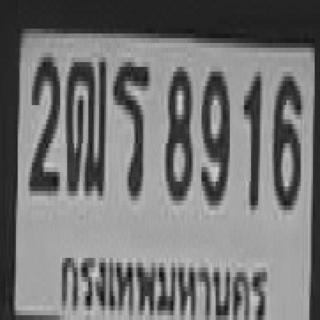A18: (64, 53, 104, 191)
A35: (111, 57, 149, 196)
N01: (242, 67, 260, 205)
N02: (27, 53, 58, 191)
N06: (272, 72, 301, 205)
N08: (164, 62, 191, 196)
N09: (200, 67, 228, 201)
P04: (57, 239, 270, 320)
